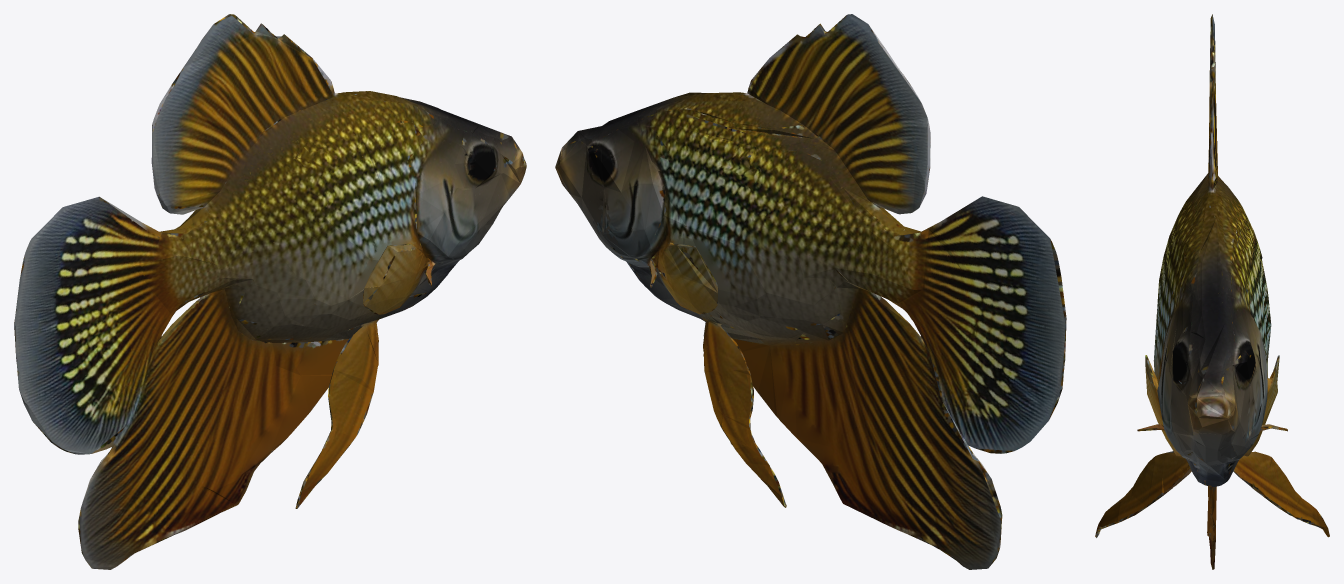
File: fish_0127_smpl23_resized.glb
3 views of the same model, side by side, from view 1: azimuth 30°, elevation 25°; view 2: azimuth 150°, elevation 25°; view 3: azimuth 270°, elevation 25° (orthographic). The views are drawn at different scales.
Parts seen in each view (by area): view 1: world; view 2: world; view 3: world.
Boxes of the visible parts, x1,y1,x2,y2 form: world: (14,14,526,569); world: (555,14,1066,569); world: (1095,14,1329,569).
Bounding box in the file's own units: 1.98 × 1.97 × 0.7136.
1 material, 1 textured.
